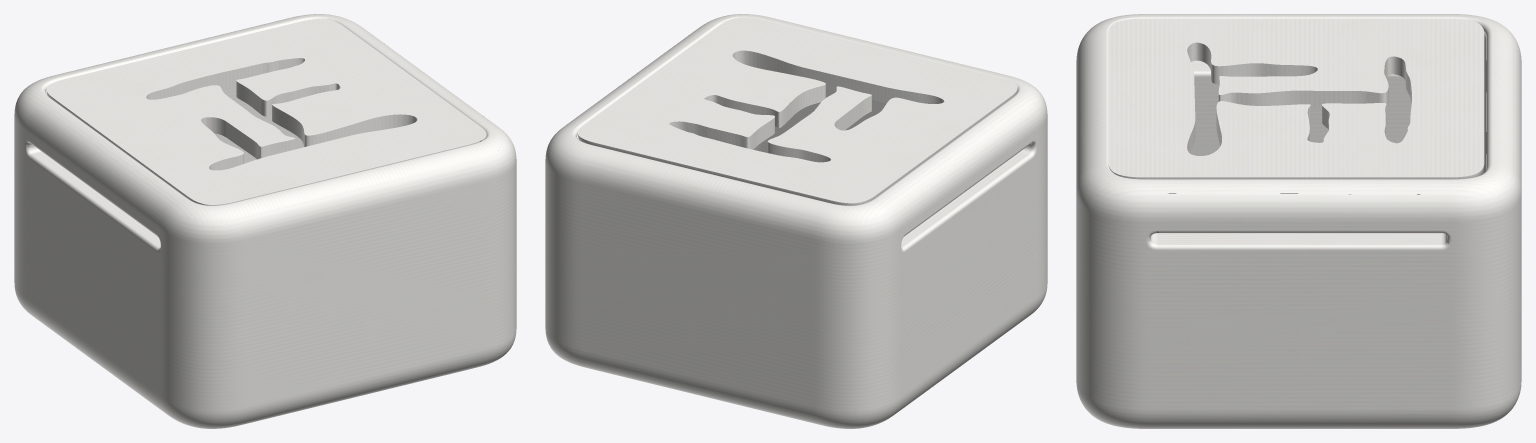
File: incense-burner-with-lid.glb
3 views of the same model, side by side, from view 1: azimuth 30°, elevation 25°; view 2: azimuth 150°, elevation 25°; view 3: azimuth 270°, elevation 25° (orthographic). The views are drawn at different scales.
Bounding box in the file's own units: 0.09 × 0.055 × 0.09.
Materials: 1 (1 with a texture image).
